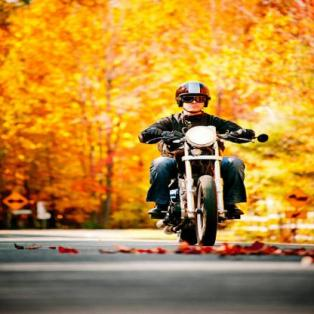Motocicleta: (146, 118, 262, 244)
